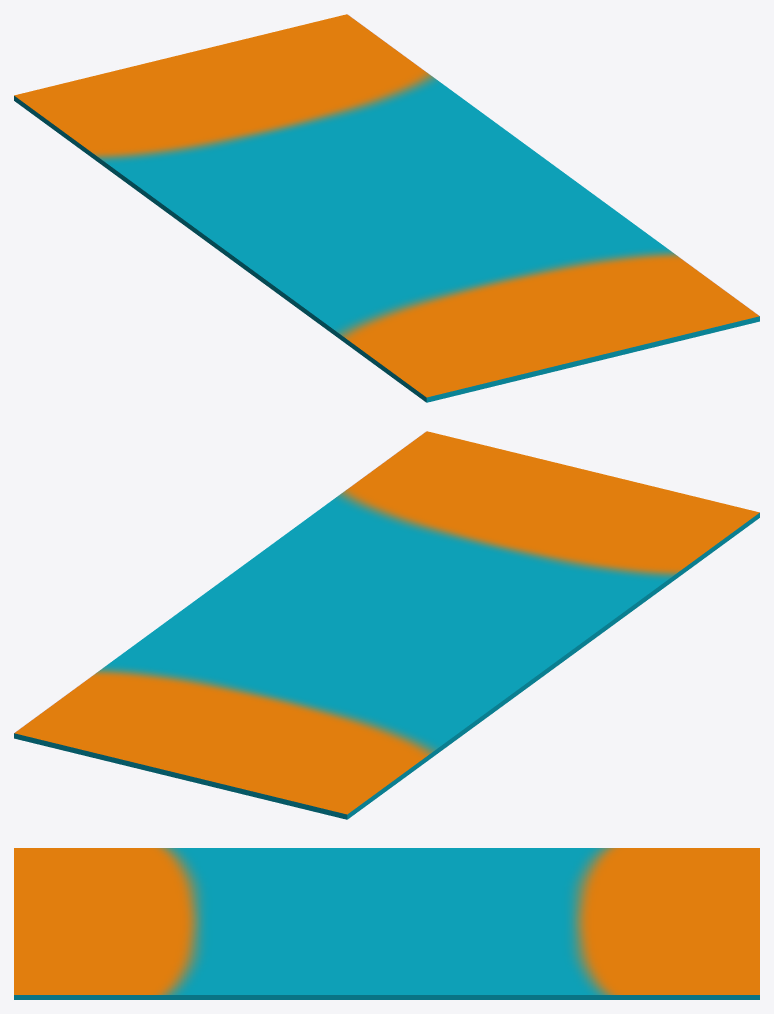
The model's file is floor.glb.
3 renders of one model, top to bottom at view 1: azimuth 30°, elevation 25°; view 2: azimuth 150°, elevation 25°; view 3: azimuth 270°, elevation 25°, orthographic. The views are drawn at different scales.
Visible parts, largest first — view 1: Cube; view 2: Cube; view 3: Cube.
Boxes of the visible parts, x1,y1,x2,y2 form: Cube: [14, 14, 759, 402]; Cube: [14, 431, 759, 819]; Cube: [14, 848, 759, 999].
Size of the model in its own units: 257 by 3.91 by 552.
Materials: 1 (1 with a texture image).
